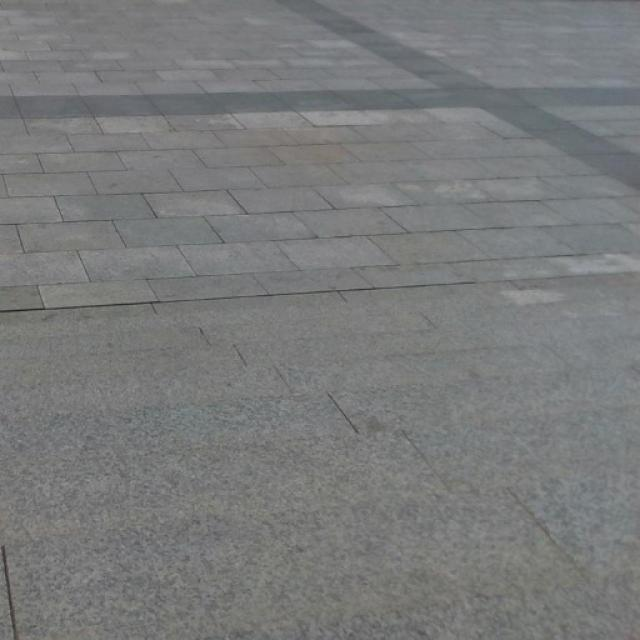stair: (6, 320, 640, 640)
